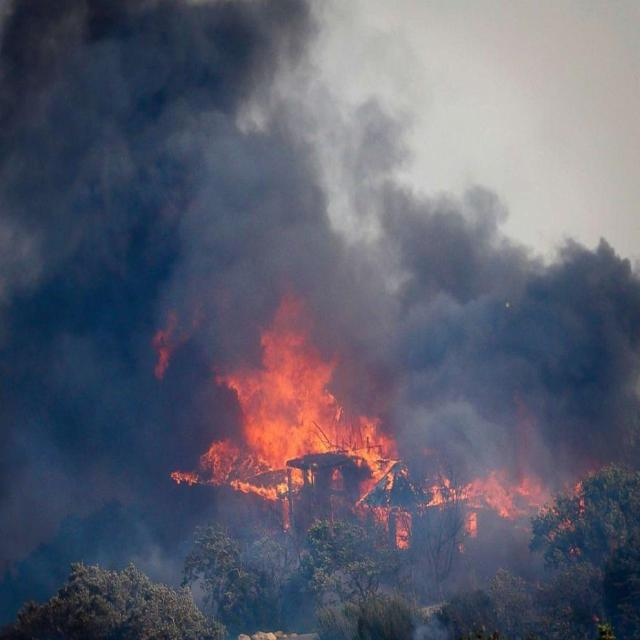Fire: (139, 279, 406, 512), (426, 453, 573, 522)
